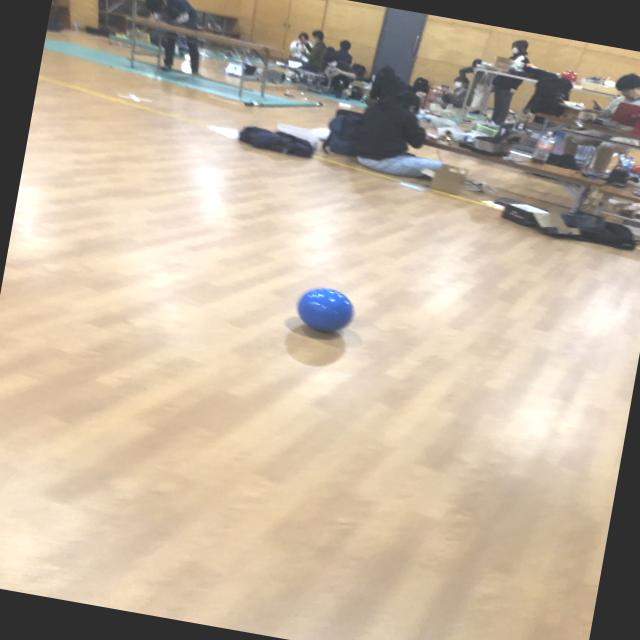blue_ball: (291, 277, 365, 338)
